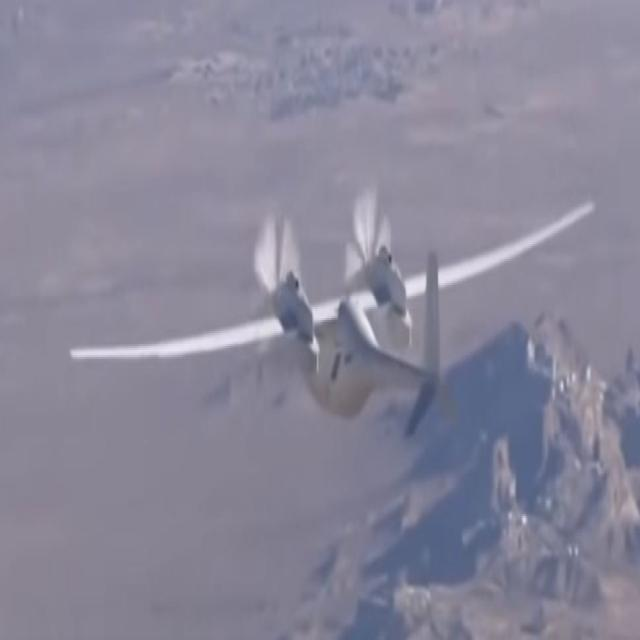iha: (67, 175, 585, 423)
